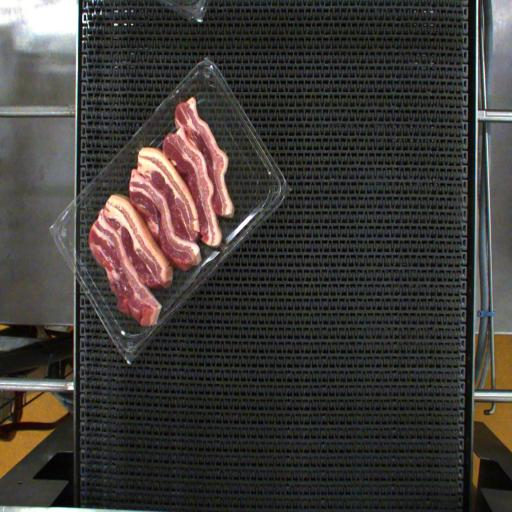packaging-error: (139, 308, 169, 338)
